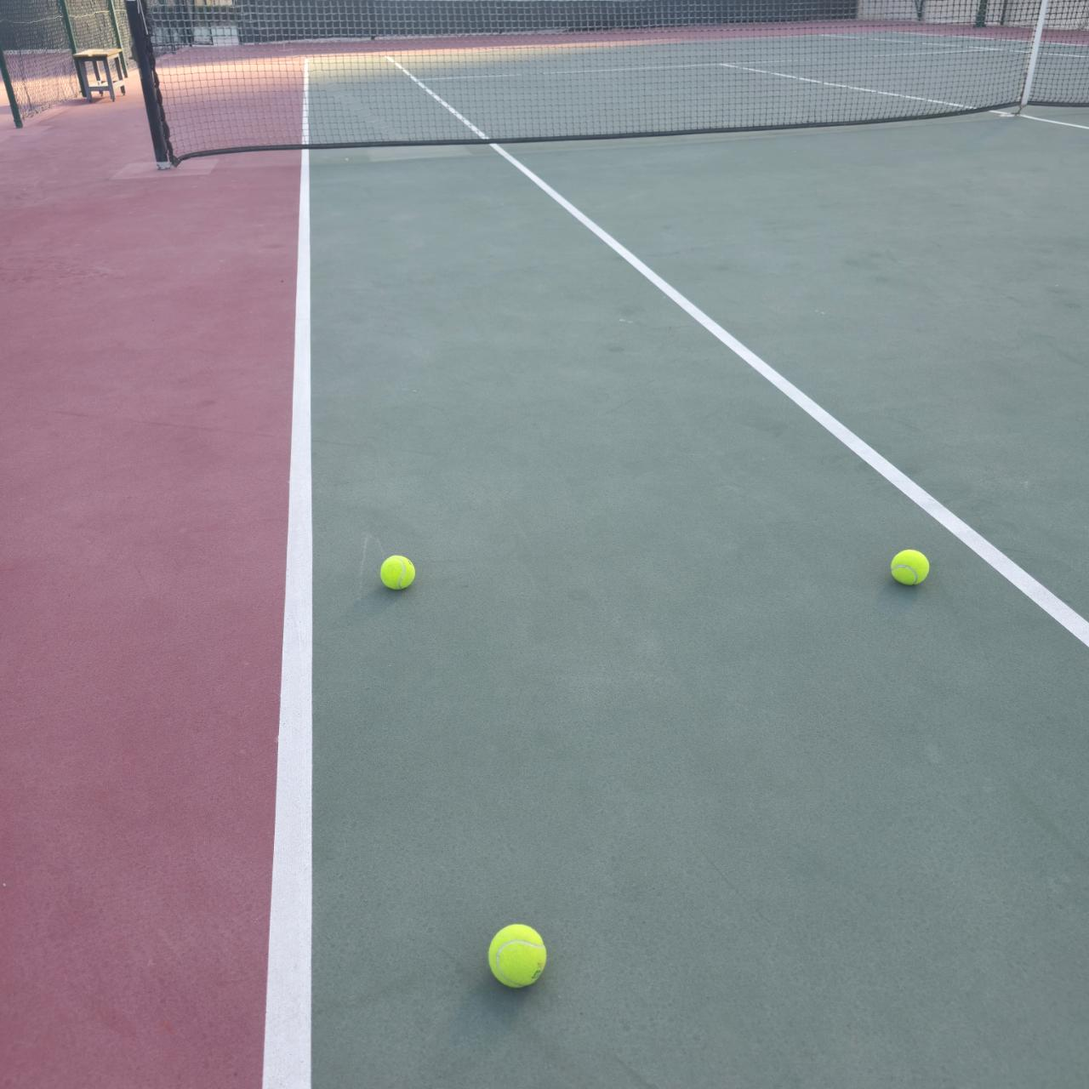tennis-ball: (487, 921, 549, 989), (890, 546, 932, 586), (379, 552, 418, 590)
